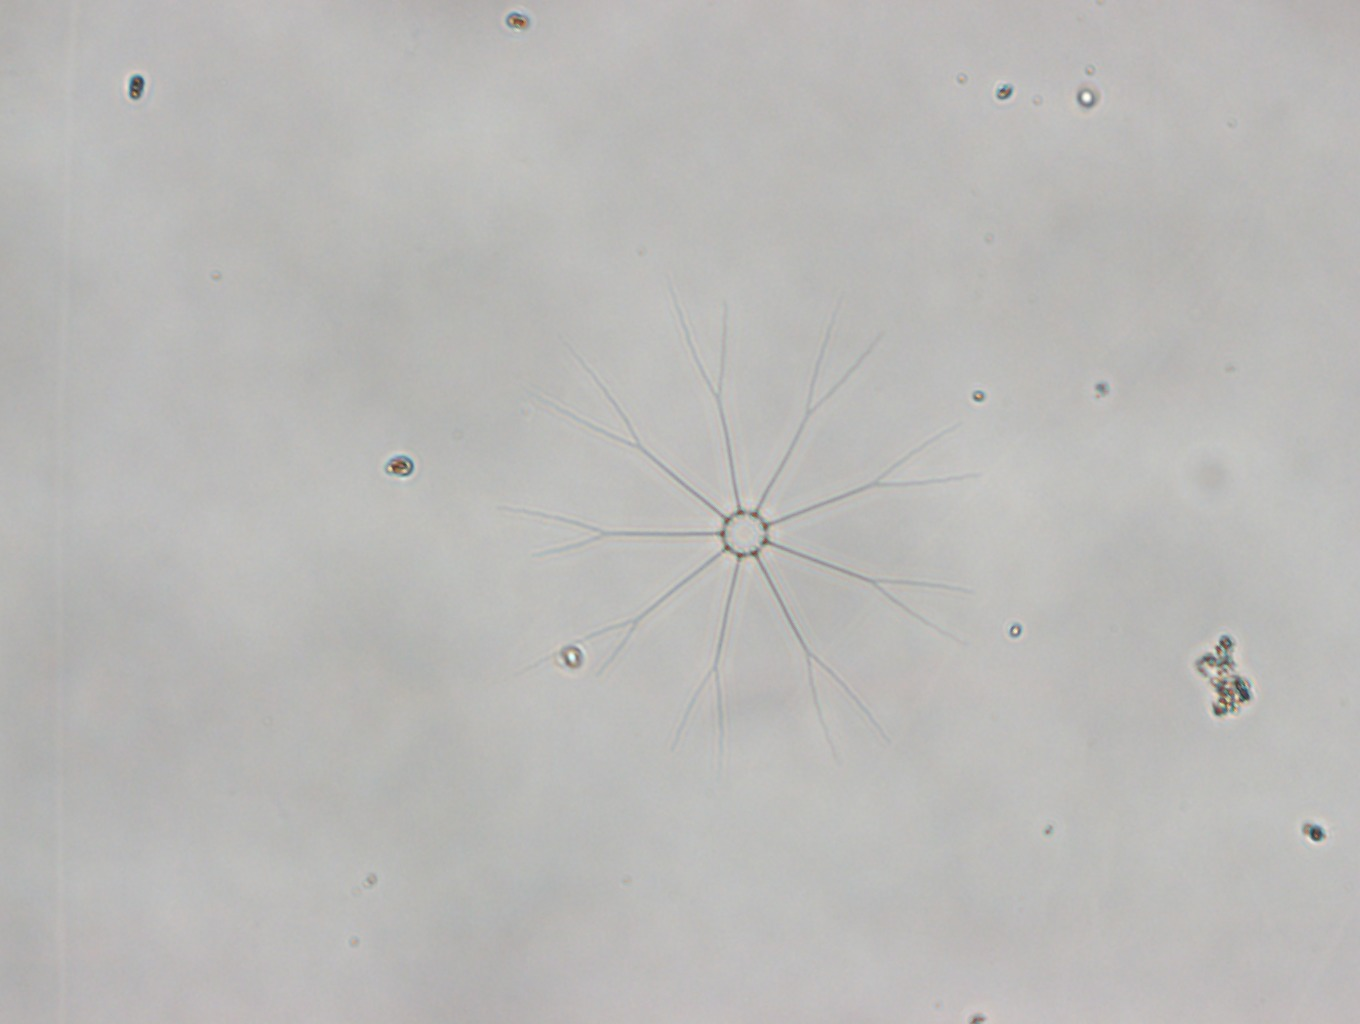bacteriastrum: (500, 280, 1000, 767)
